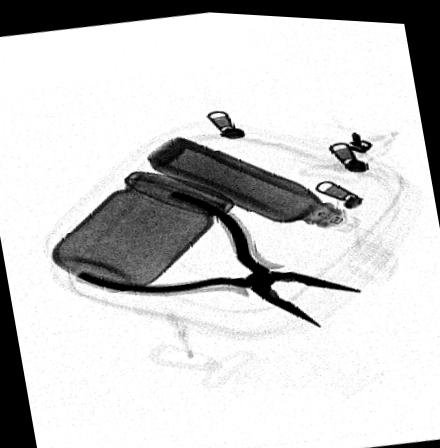Pliers: (70, 183, 362, 322)
